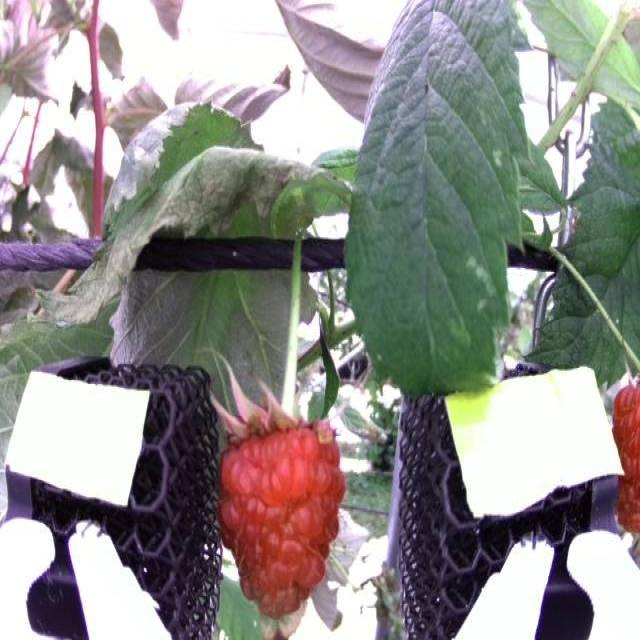Riped berries: (210, 392, 348, 604), (602, 377, 640, 522)
